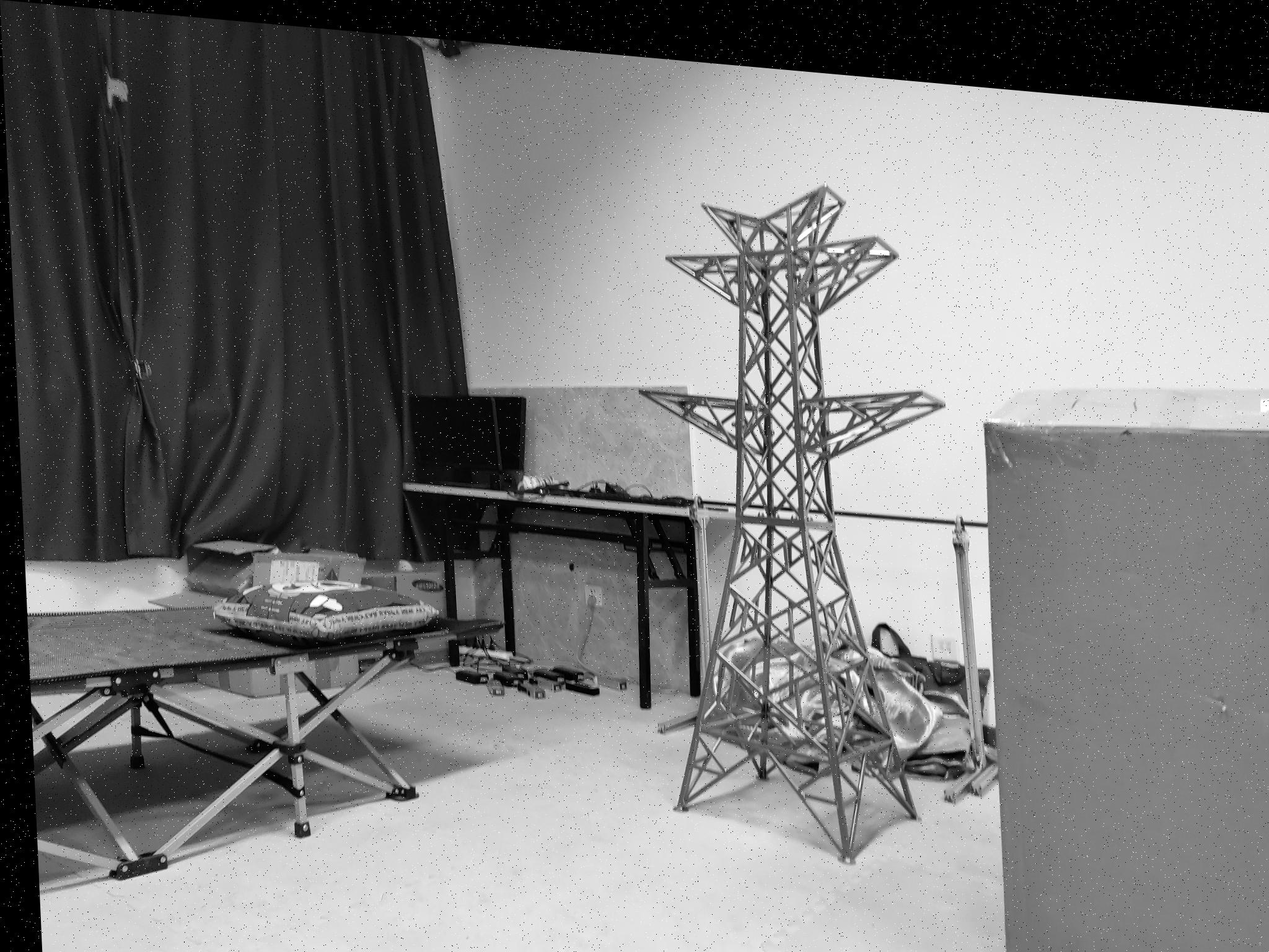tower: (624, 166, 965, 847)
